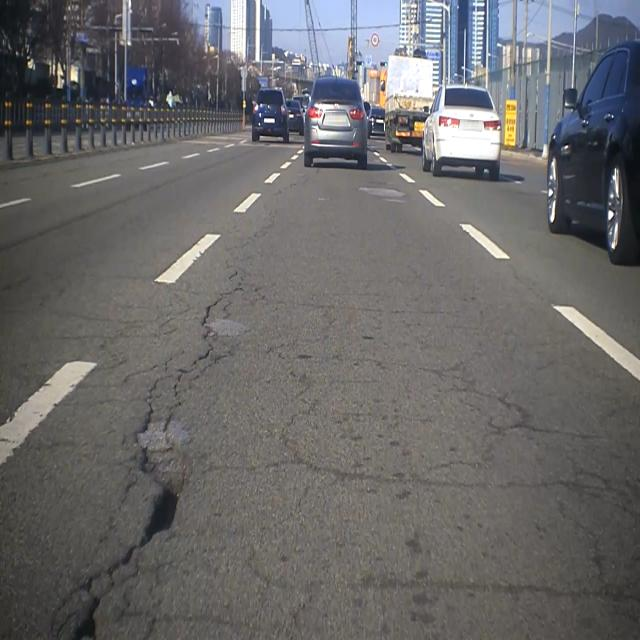Pothole: (63, 475, 184, 640)
